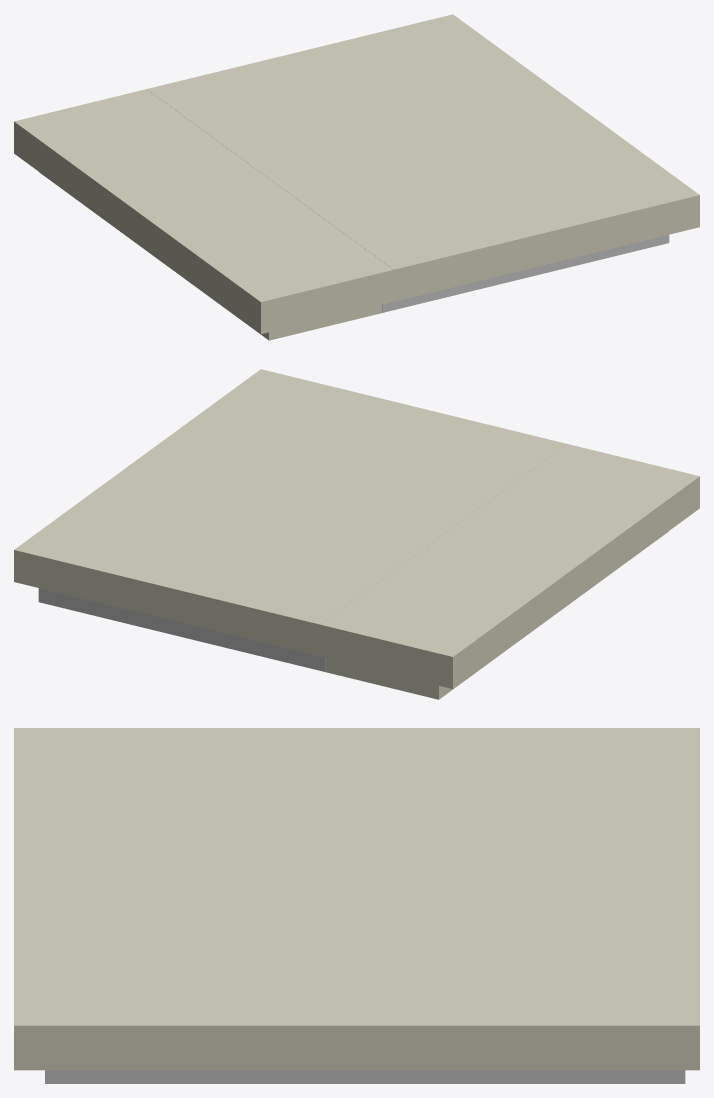
3 views of the same model, one above another, from view 1: azimuth 30°, elevation 25°; view 2: azimuth 150°, elevation 25°; view 3: azimuth 270°, elevation 25° (orthographic). The views are drawn at different scales.
Parts seen in each view (by area): view 1: MainModel:0, MainModel:1; view 2: MainModel:0, MainModel:1; view 3: MainModel:0, MainModel:1.
Part boxes in pixels (<box>): MainModel:0: <box>14,14,699,340</box>; MainModel:1: <box>151,92,669,312</box>; MainModel:0: <box>14,369,699,699</box>; MainModel:1: <box>38,444,566,671</box>; MainModel:0: <box>14,728,699,1070</box>; MainModel:1: <box>45,1070,685,1083</box>.
Size of the model in its own units: 1.66 by 0.1882 by 1.62.
